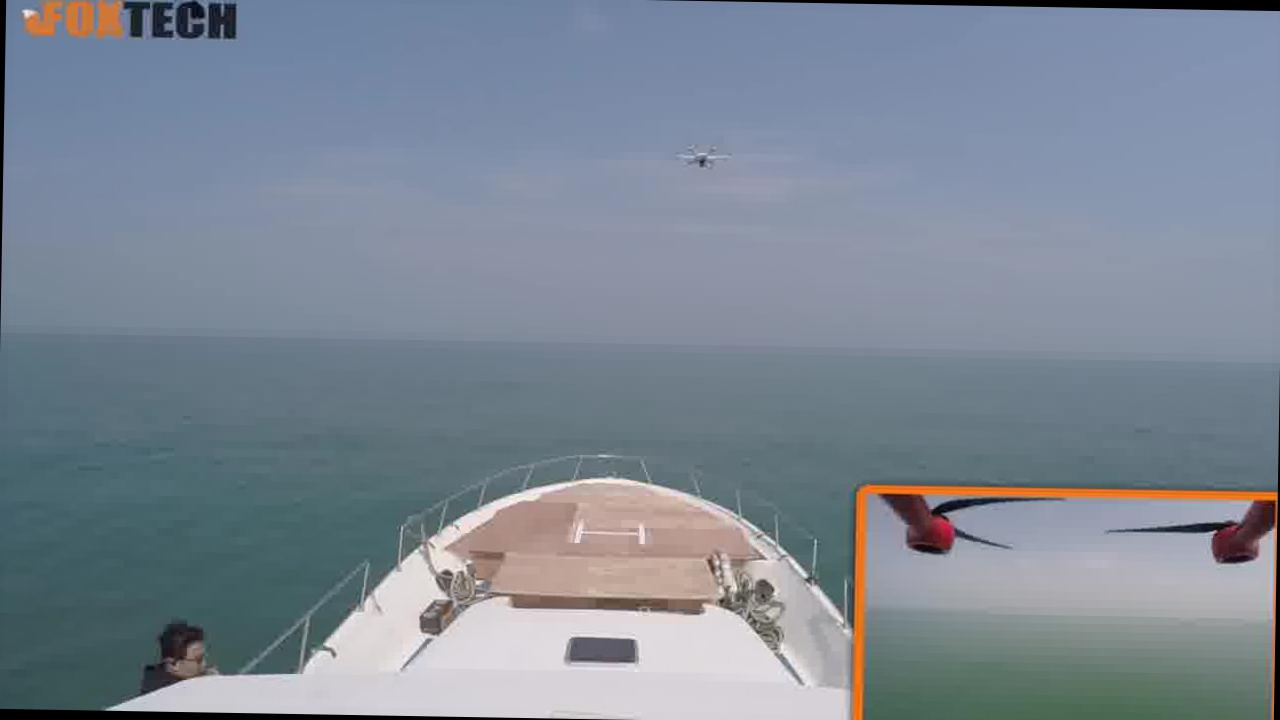drone: (666, 138, 738, 184)
